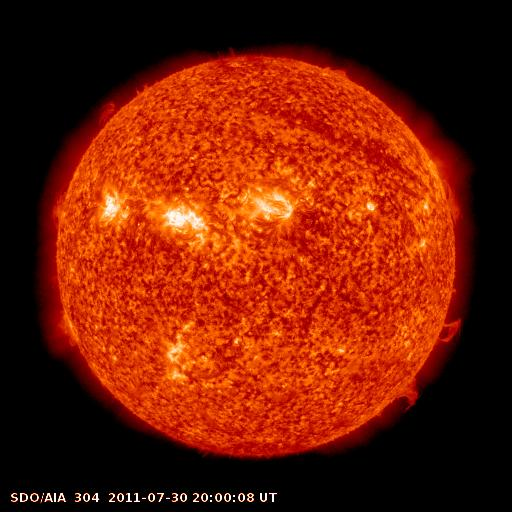prominence: (37, 306, 89, 361), (384, 370, 428, 417), (435, 174, 469, 227), (43, 178, 74, 233), (90, 93, 129, 129), (429, 314, 466, 344)
